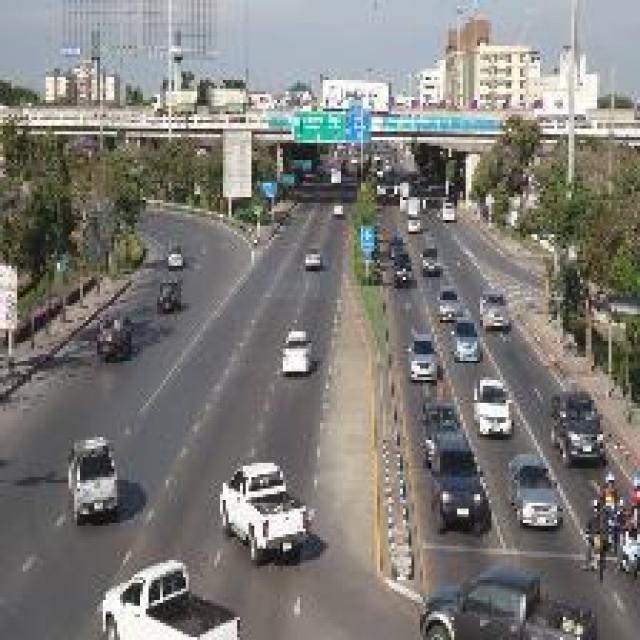other: (89, 549, 228, 634)
